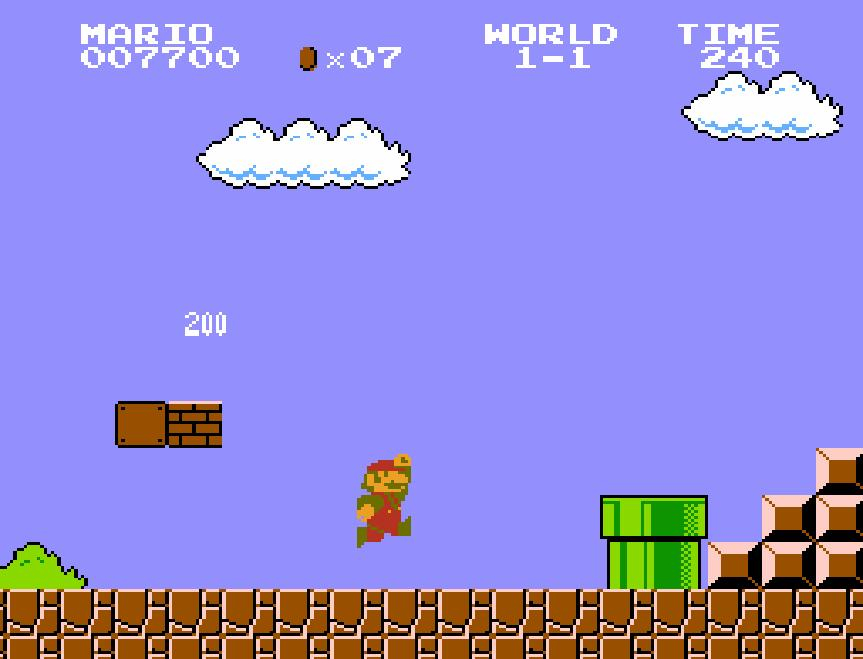big_mario: (355, 452, 413, 550)
